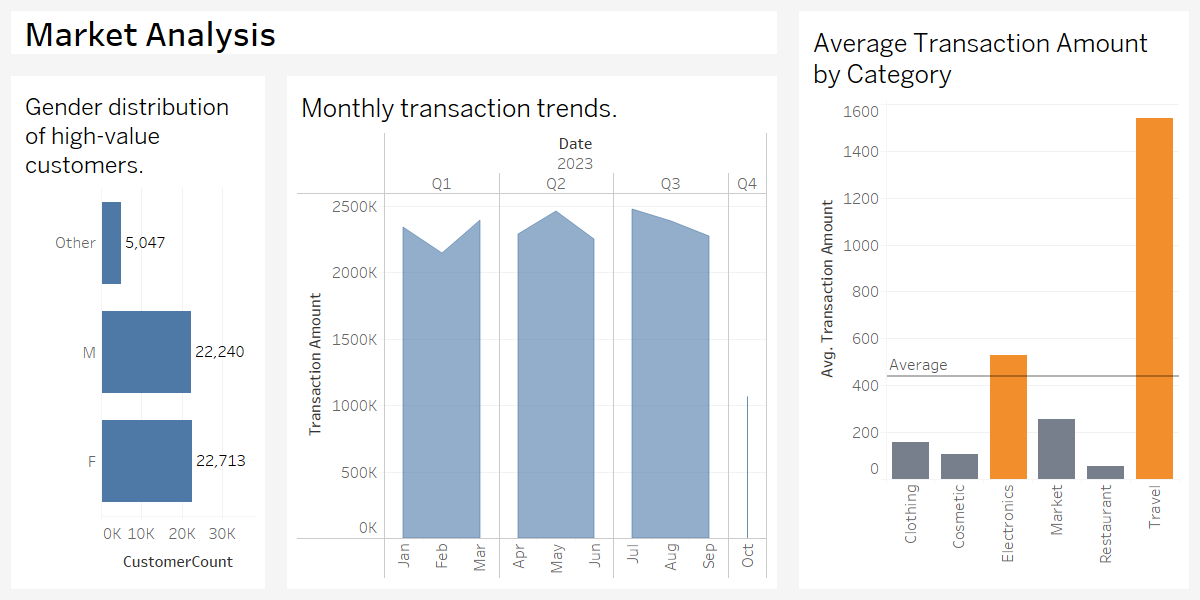

What the dashboard file says about the page in this screenshot:
{"tool":"tableau","page":{"name":"Dashboard 2","canvas":[1200,600],"ordinal":1},"visuals":[{"type":"text","box":[0,0,788,65]},{"type":"worksheet","title":"Sheet 7","mark":"Automatic","rows":["TransactionAmount"],"cols":["Category (Custom SQL Query)"],"box":[788,0,412,600]},{"type":"worksheet","title":"Sheet 4","mark":"Automatic","rows":["Gender (Custom SQL Query1)"],"cols":["CustomerCount"],"box":[0,65,276,535]},{"type":"worksheet","title":"Sheet 5","mark":"Area","rows":["TransactionAmount"],"cols":["Date","Date","Date"],"box":[276,65,512,535]}]}

Visuals, with their boxes in screenshot pixels (x1, y1, x2, y2), scaled from the page's 1200x600 canvas onto the 1200x600 screenshot:
text: [left=0, top=0, right=788, bottom=65]
"Sheet 7" worksheet: [left=788, top=0, right=1199, bottom=599]
"Sheet 4" worksheet: [left=0, top=65, right=276, bottom=599]
"Sheet 5" worksheet (Area marks): [left=276, top=65, right=788, bottom=599]
